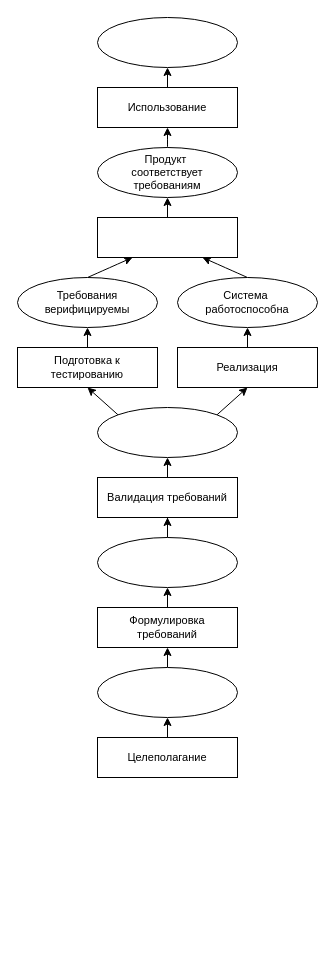
Some shapes in this 335 by 953 pixel diagram are drawn without their labels. Each missing label, with the centre of its shape:
Продукт помогает достижению цели: the point at 167,42
Тестирование: the point at 167,237
Требования понятны: the point at 167,562
Требования соответствуют целям: the point at 167,432
Цели определены: the point at 167,692
